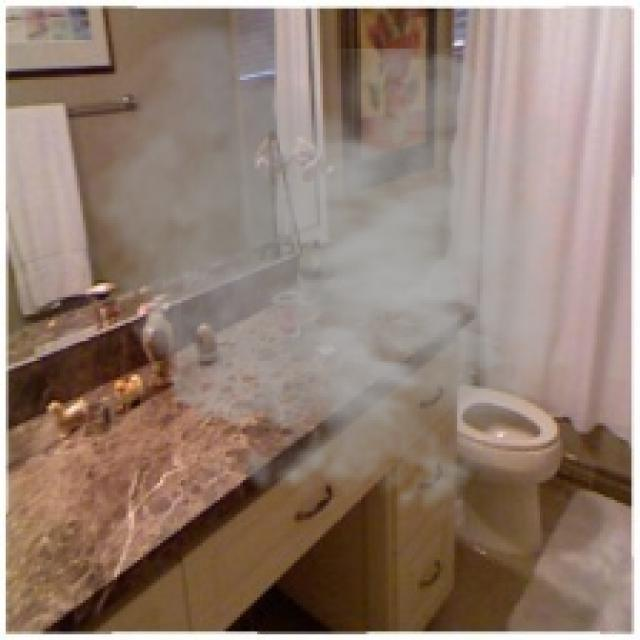Smoke: (68, 11, 623, 526)
